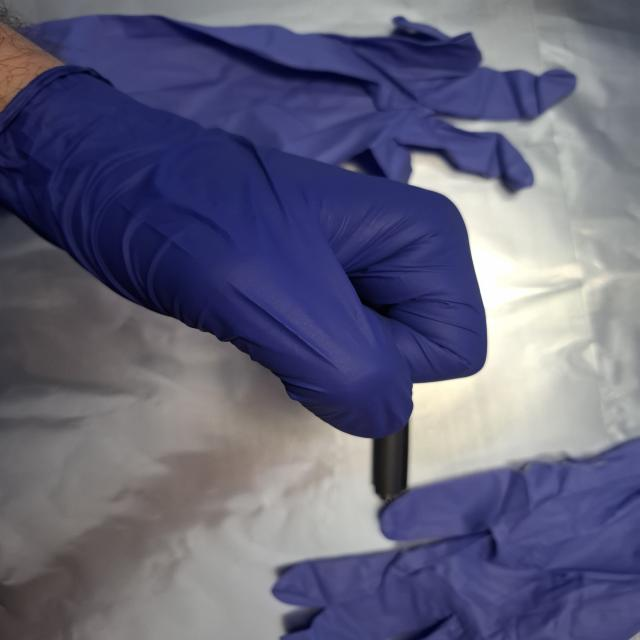glove_on: (7, 59, 495, 438)
